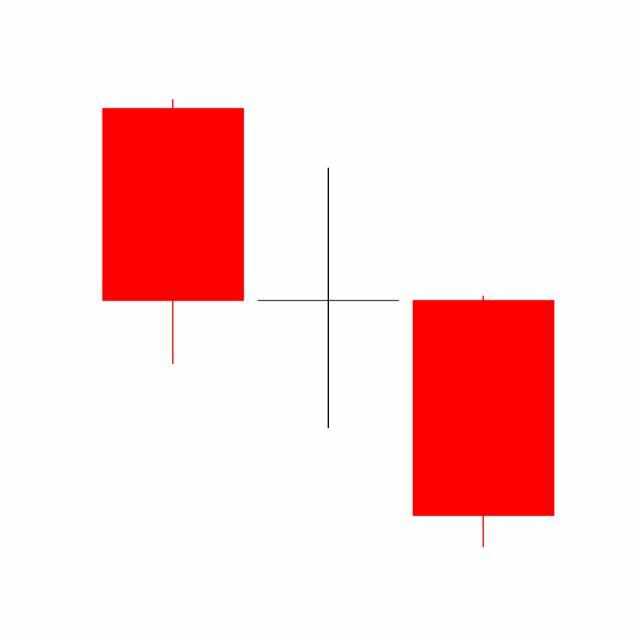Marubozu: (406, 293, 562, 551)
